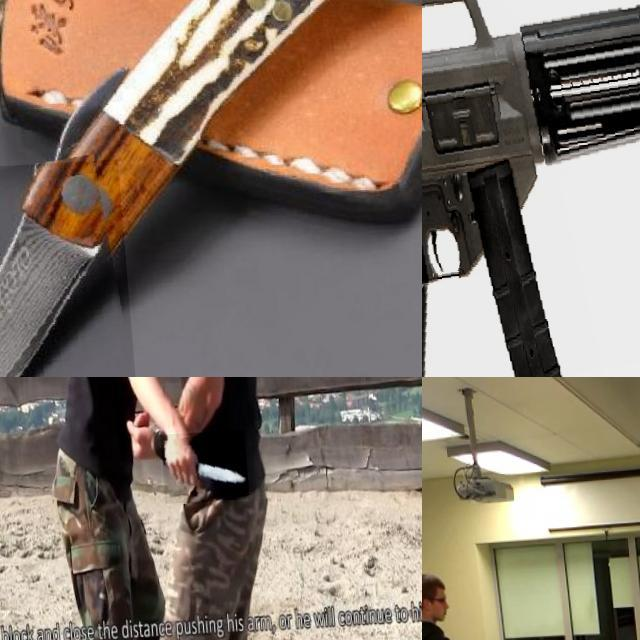-: (0, 163, 156, 377), (154, 435, 242, 508)
gun-knife-thesis - v11 Yolov5 augmented: (422, 0, 640, 377)
